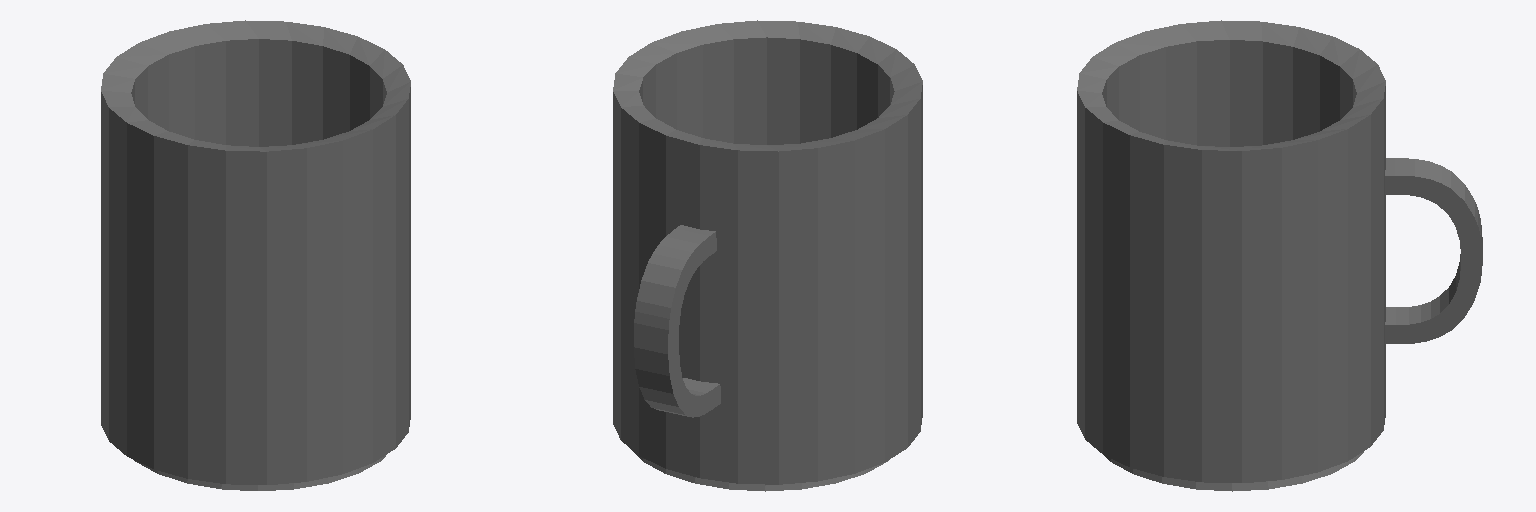
robot.urdf — object:
<?xml version="1.0"?>
<robot name="object">
  <link name="object">
    <visual>
      <origin xyz="0 0 0"/>
      <geometry>
        <mesh
          filename="../../mesh/oakink_virtual/mug_s149.stl" />
      </geometry>
      <material name="mat">
        <color rgba="0.5 0.5 0.5 1"/>
      </material>
    </visual>

    <collision>
      <origin xyz="0 0 0"/>
      <geometry>
        <mesh
          filename="../../mesh/oakink_virtual/mug_s149.stl" />
      </geometry>
    </collision>
  </link>
</robot>

--- What the picture shows (computed from the rendered views, not written in the file) ---
The picture shows the robot from 3 angles, left to right: view 1: azimuth 30°, elevation 25°; view 2: azimuth 150°, elevation 25°; view 3: azimuth 270°, elevation 25°; orthographic projection.
Robot: object — 1 links, 0 joints (none); root link object; default pose: every joint at zero.
Visible links, largest first — view 1: object; view 2: object; view 3: object.
Boxes of the visible links, <box> form: object: <box>101,20,410,490</box>; object: <box>613,20,922,491</box>; object: <box>1077,20,1482,491</box>.
Bounding box of the posed robot: 0.0789 × 0.1036 × 0.0971 m (x, y, z).
1 mesh visuals loaded from 1 distinct referenced files (1 binary STL).